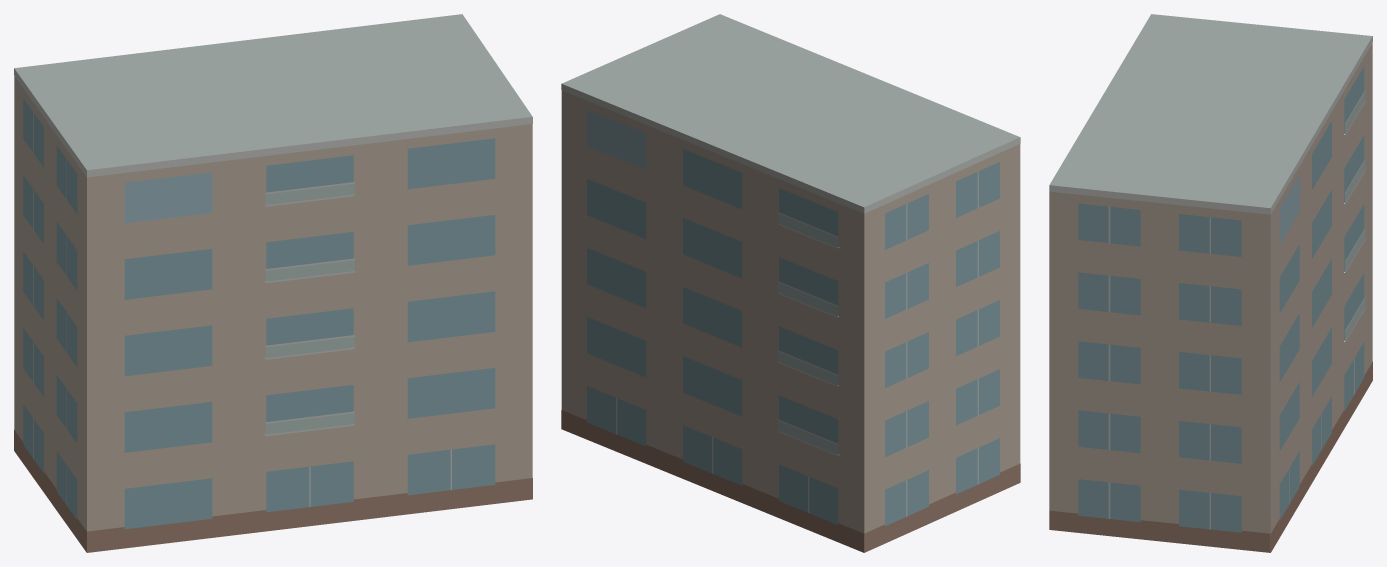
File: survey-upis-32894374.glb
3 views of the same model, side by side, from view 1: azimuth 30°, elevation 25°; view 2: azimuth 150°, elevation 25°; view 3: azimuth 270°, elevation 25° (orthographic). The views are drawn at different scales.
Visible parts, largest first — view 1: survey-upis-32894374.tmp; view 2: survey-upis-32894374.tmp; view 3: survey-upis-32894374.tmp.
Part boxes in pixels (x1=…): survey-upis-32894374.tmp: x1=14, y1=14, x2=532, y2=552; survey-upis-32894374.tmp: x1=561, y1=14, x2=1020, y2=552; survey-upis-32894374.tmp: x1=1049, y1=14, x2=1372, y2=552.
Size of the model in its own units: 15.84 by 13.1 by 11.15.
